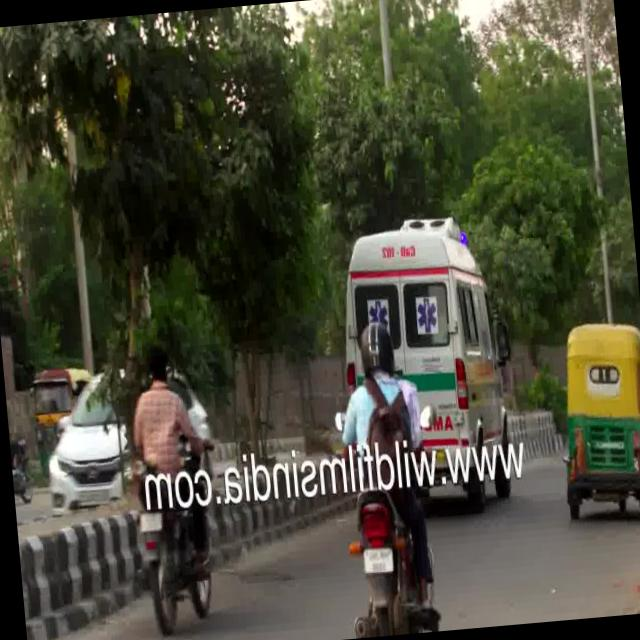ambulance: (282, 204, 526, 455)
